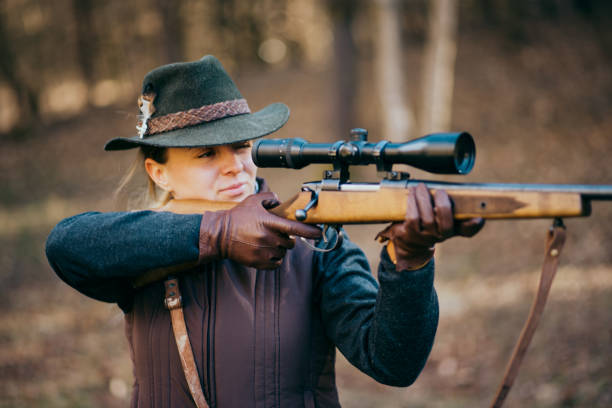rifle: (166, 140, 612, 257)
